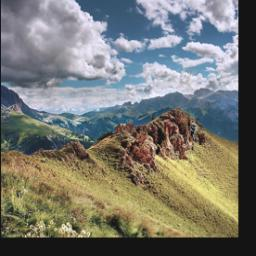Woodpecker: (190, 120, 205, 144)
